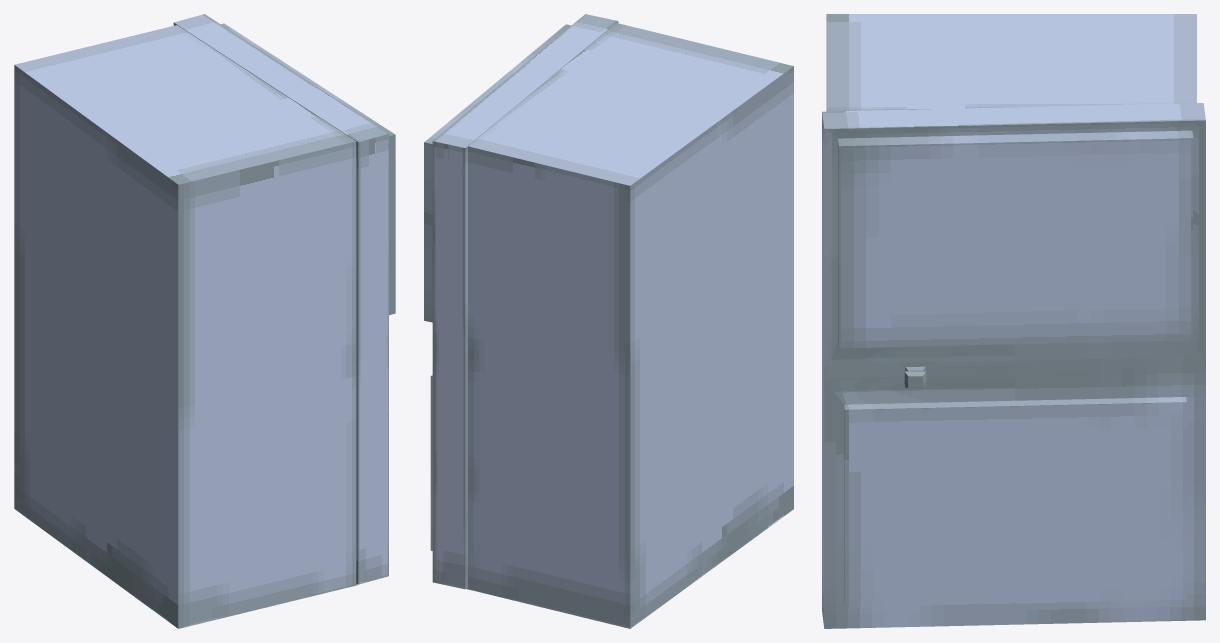
The model's file is fridge.glb.
3 views of the same model, side by side, from view 1: azimuth 30°, elevation 25°; view 2: azimuth 150°, elevation 25°; view 3: azimuth 270°, elevation 25° (orthographic). The views are drawn at different scales.
Visible parts, largest first — view 1: Cube.001; view 2: Cube.001; view 3: Cube.001.
Part boxes in pixels (x1=…): Cube.001: x1=14, y1=14, x2=395, y2=628; Cube.001: x1=424, y1=14, x2=793, y2=628; Cube.001: x1=822, y1=14, x2=1205, y2=628.
Bounding box in the file's own units: 1.14 × 2.17 × 1.5.
1 material, 1 textured.
